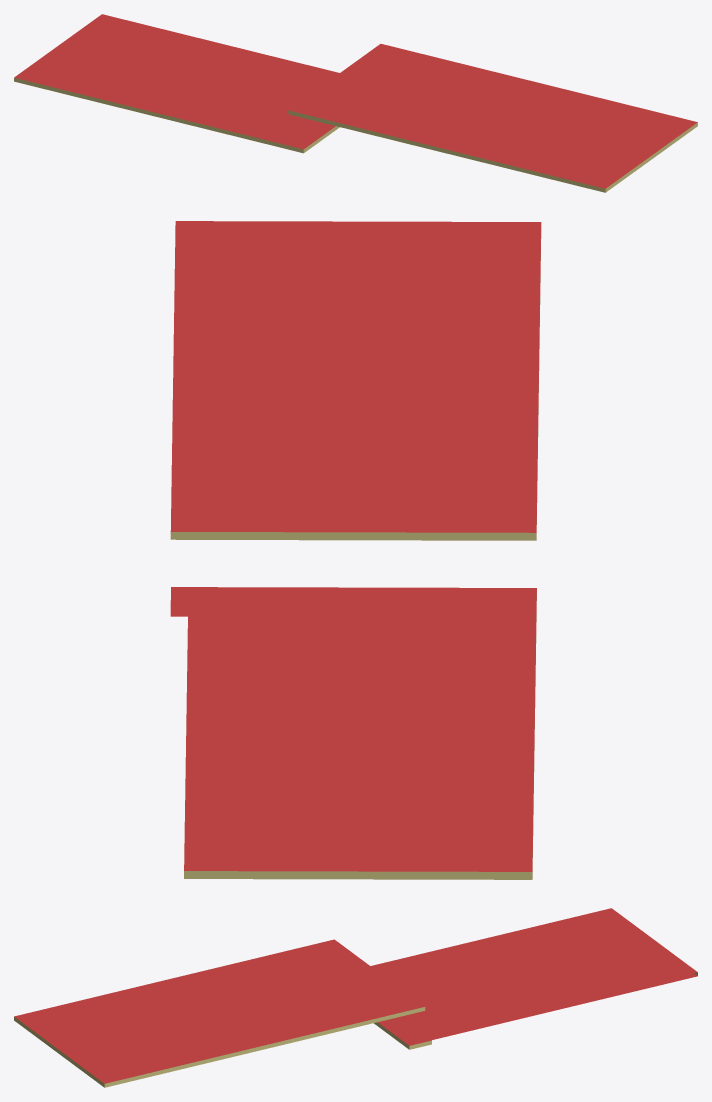
3 views of the same model, one above another, from view 1: azimuth 30°, elevation 25°; view 2: azimuth 150°, elevation 25°; view 3: azimuth 270°, elevation 25° (orthographic). The views are drawn at different scales.
Size of the model in its own units: 11.34 by 15.53 by 0.985.
